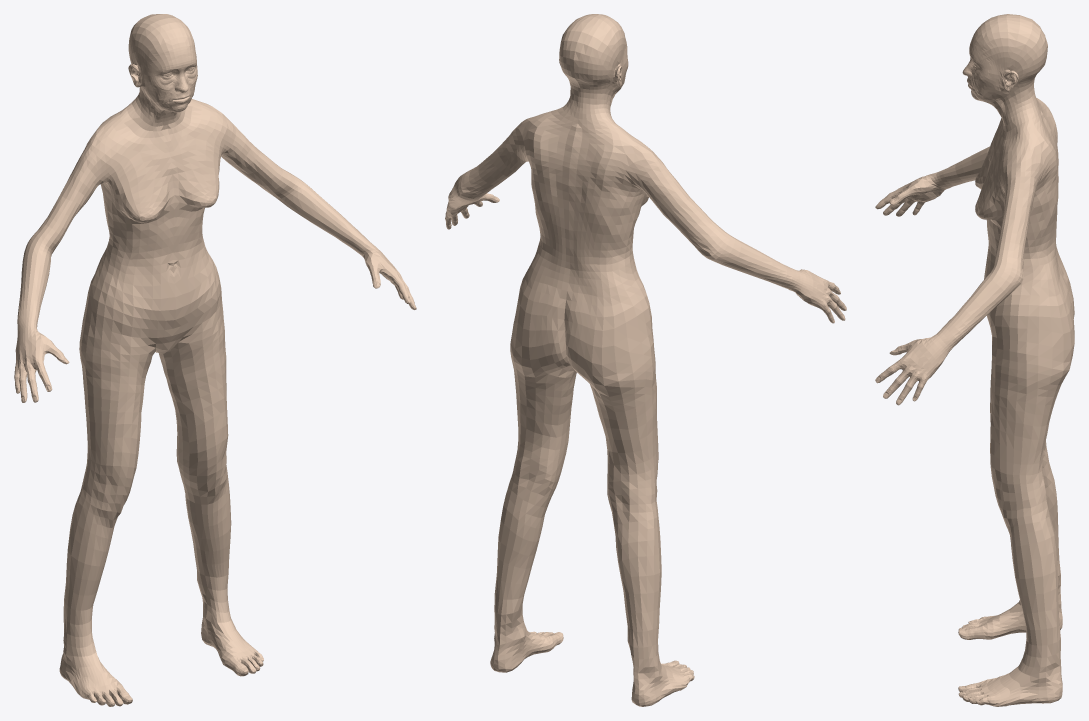
File: female-elder-fit-toned.glb
3 renders of one model, left to right at view 1: azimuth 30°, elevation 25°; view 2: azimuth 150°, elevation 25°; view 3: azimuth 270°, elevation 25°, orthographic.
Visible parts, largest first — view 1: world; view 2: world; view 3: world.
Boxes of the visible parts, x1=… form: world: x1=14, y1=14, x2=416, y2=706; world: x1=445, y1=14, x2=846, y2=706; world: x1=875, y1=14, x2=1074, y2=706.
Size of the model in its own units: 1.13 by 1.8 by 0.5004.
